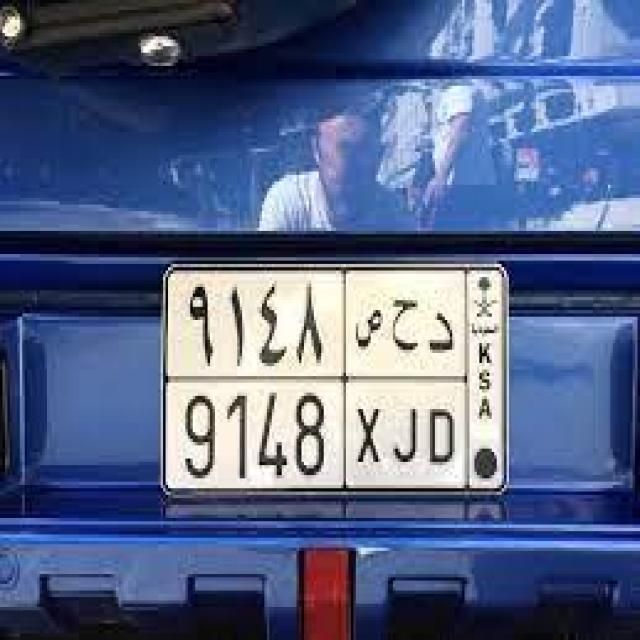license_plate: (131, 231, 497, 534)
